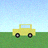vehicle: (13, 24, 35, 37)
